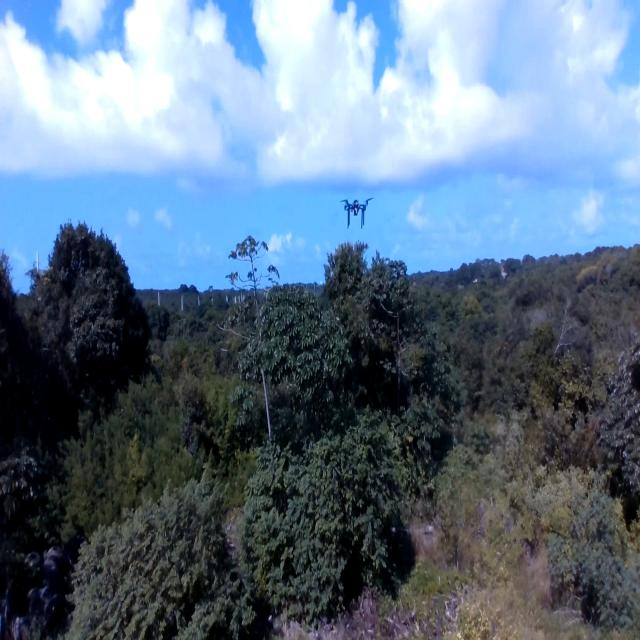-uav-: (333, 184, 375, 228)
